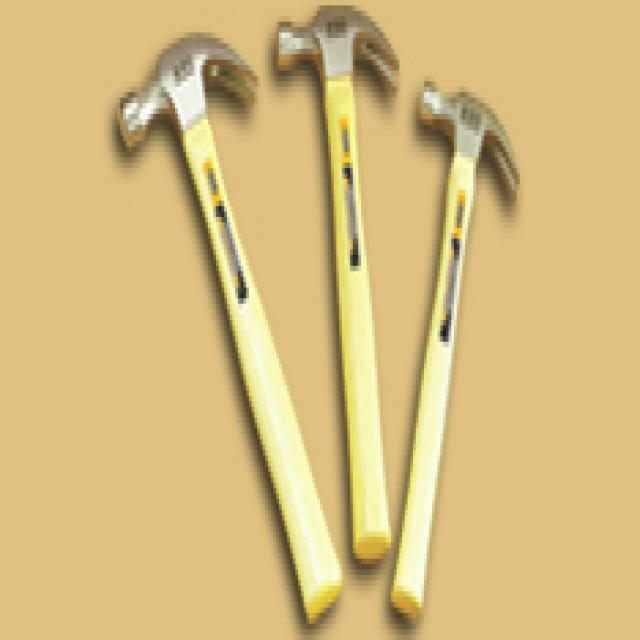hammer: (106, 16, 334, 640), (372, 65, 525, 640), (270, 1, 405, 598)
